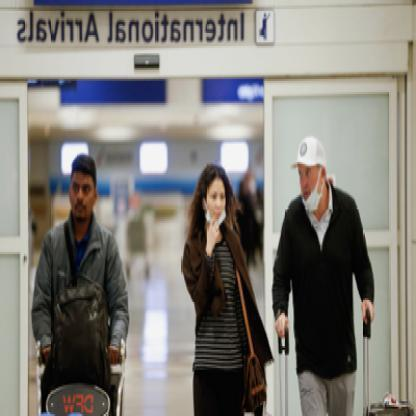mask_weared_incorrect: (299, 162, 323, 202), (206, 186, 227, 223)
without_mask: (71, 175, 95, 217)
